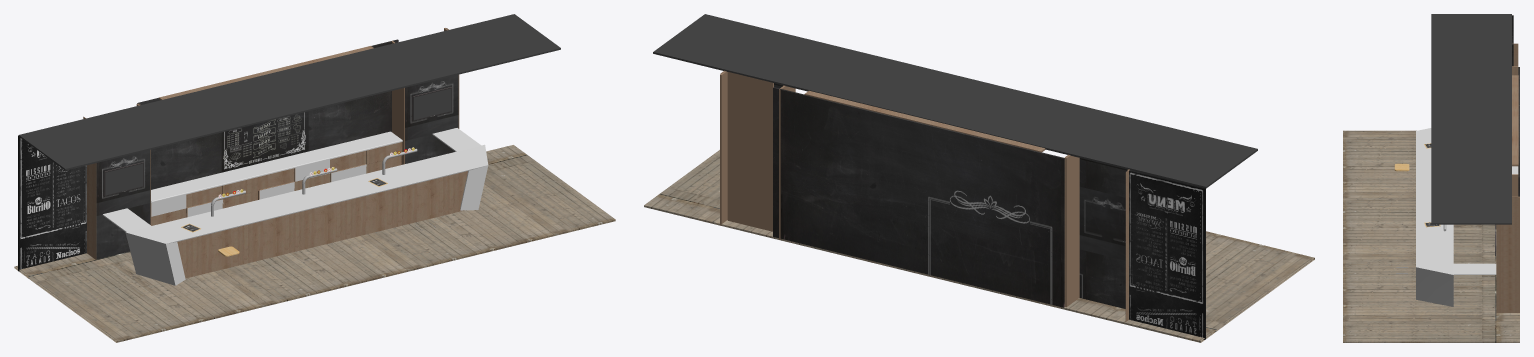
The picture shows the model from 3 angles, left to right: view 1: azimuth 30°, elevation 25°; view 2: azimuth 150°, elevation 25°; view 3: azimuth 270°, elevation 25°; orthographic projection. The views are drawn at different scales.
Visible parts, largest first — view 1: Cube.032, Cube.000, Cube.024, Cube.020, Cube.006, Cube.035, Cube.027, Cube.311, Cube.063, Cube.018, screen.002, screen.001 (+3 smaller); view 2: Cube.006, Cube.000, Cube.027, Cube.032, Cube.031, Cube.311, Cube.022, Cube.045, Cube.025, Cube.313; view 3: Cube.032, Cube.000, Cube.020, Cube.062, Cube.045, Cube.018, Cube.006, Cube.025.
Boxes of the visible parts, x1,y1,x2,y2 form: Cube.032: (14, 145, 615, 342); Cube.000: (18, 14, 560, 170); Cube.024: (177, 171, 467, 278); Cube.020: (125, 144, 488, 285); Cube.006: (137, 39, 398, 201); Cube.035: (151, 131, 402, 225); Cube.027: (18, 135, 86, 271); Cube.311: (96, 150, 150, 259); Cube.063: (405, 74, 458, 163); Cube.018: (102, 128, 481, 231); screen.002: (412, 87, 452, 120); screen.001: (104, 162, 143, 196); Cube.006: (773, 87, 1064, 307); Cube.000: (653, 14, 1257, 188); Cube.027: (1127, 170, 1205, 339); Cube.032: (644, 150, 1314, 342); Cube.031: (727, 72, 773, 231); Cube.311: (1079, 158, 1127, 308); Cube.022: (1065, 155, 1079, 307); Cube.045: (804, 90, 1045, 152); Cube.025: (720, 71, 727, 225); Cube.313: (1125, 169, 1129, 321); Cube.032: (1343, 130, 1519, 342); Cube.000: (1431, 14, 1511, 224); Cube.020: (1416, 128, 1453, 306); Cube.062: (1496, 197, 1518, 312); Cube.045: (1512, 75, 1518, 166); Cube.018: (1453, 263, 1496, 274); Cube.006: (1518, 67, 1519, 196); Cube.025: (1513, 196, 1519, 312).
Bounding box in the file's own units: 1021 × 267 × 362.
25 materials, 12 textured.
